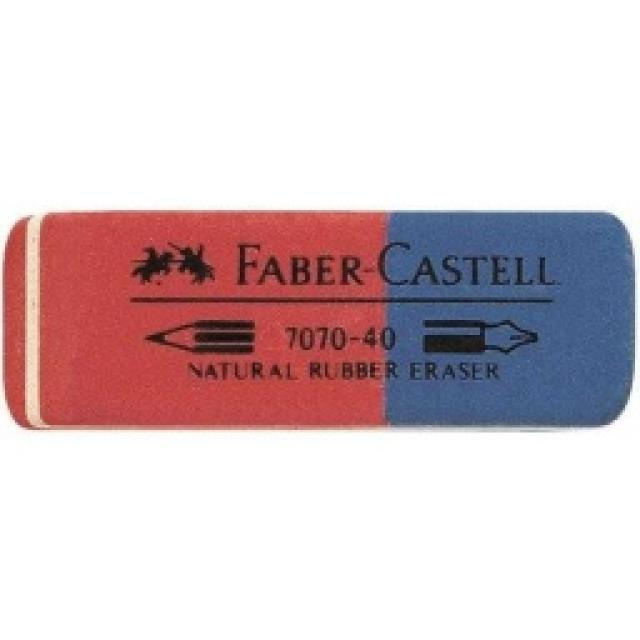Silgi: (1, 210, 637, 430)
